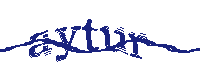a: (27, 27, 51, 55)
r: (128, 30, 149, 60)
t: (80, 19, 103, 54)
u: (100, 24, 127, 55)
y: (54, 24, 81, 64)
